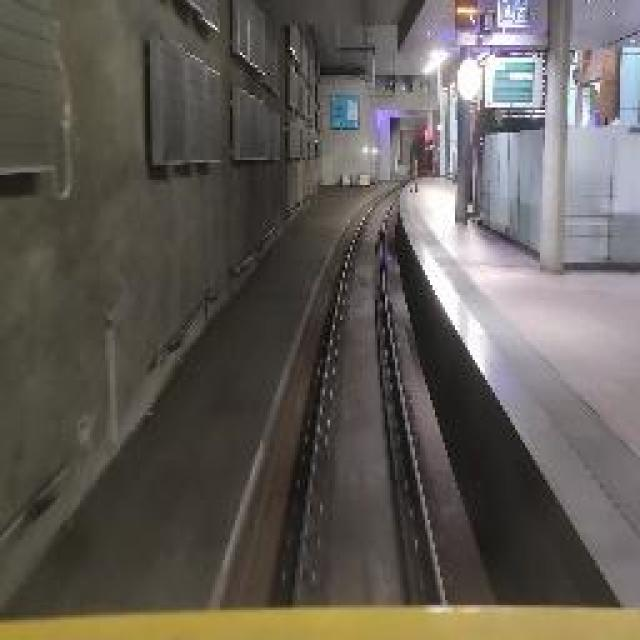rail: (262, 179, 478, 611)
